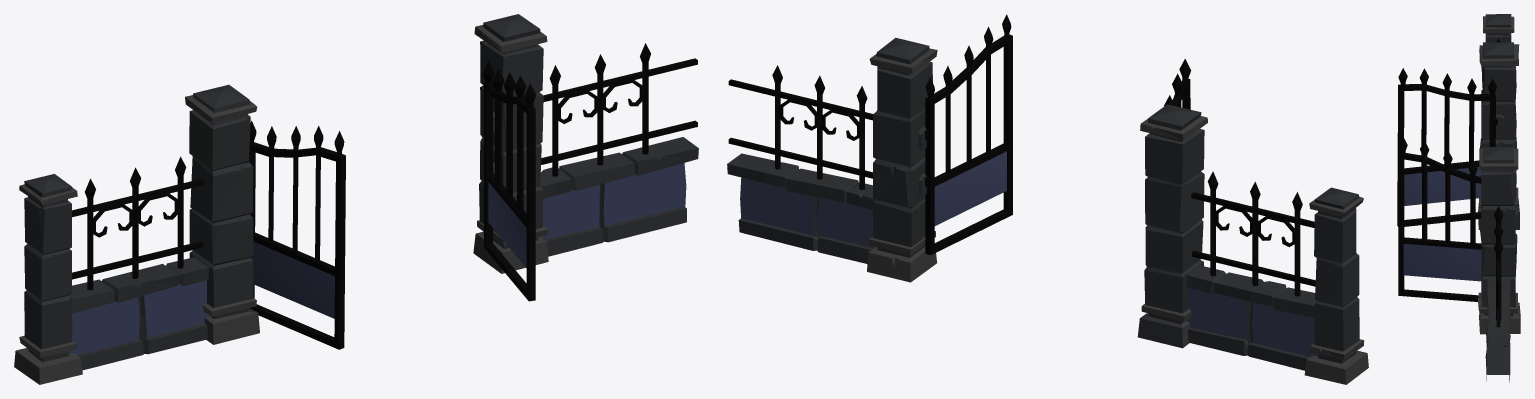
Rendered from GateGraveyard_Normal.fbx.
The picture shows the model from 3 angles, left to right: view 1: azimuth 30°, elevation 25°; view 2: azimuth 150°, elevation 25°; view 3: azimuth 270°, elevation 25°; orthographic projection. The views are drawn at different scales.
Visible parts, largest first — view 1: gate-graveyard-body, gate-graveyard-door-r, gate-graveyard-door-l; view 2: gate-graveyard-body, gate-graveyard-door-l, gate-graveyard-door-r; view 3: gate-graveyard-body, gate-graveyard-door-l, gate-graveyard-door-r.
Part boxes in pixels (x1=…): gate-graveyard-body: x1=14, y1=14, x2=698, y2=384; gate-graveyard-door-r: x1=249, y1=120, x2=345, y2=349; gate-graveyard-door-l: x1=482, y1=60, x2=536, y2=301; gate-graveyard-body: x1=727, y1=37, x2=1368, y2=384; gate-graveyard-door-l: x1=925, y1=14, x2=1012, y2=255; gate-graveyard-door-r: x1=1164, y1=59, x2=1191, y2=109; gate-graveyard-body: x1=1477, y1=14, x2=1520, y2=382; gate-graveyard-door-l: x1=1398, y1=136, x2=1481, y2=301; gate-graveyard-door-r: x1=1397, y1=68, x2=1497, y2=226.
Size of the model in its own units: 526 by 178 by 114.
